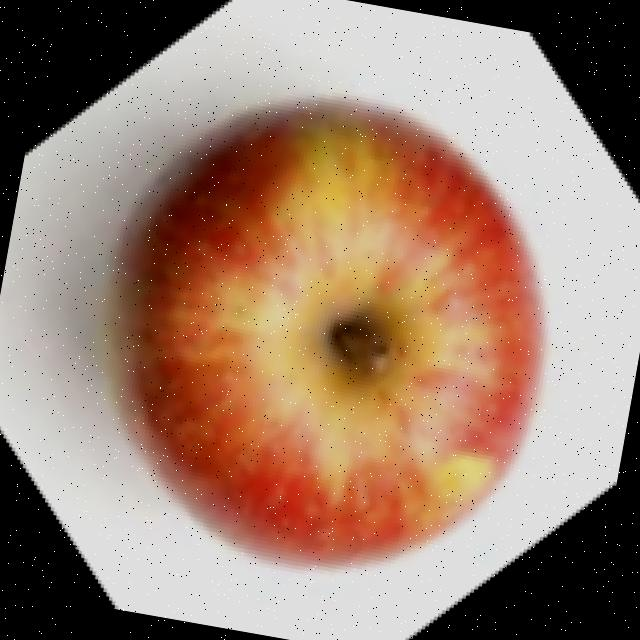Ripe: (61, 64, 590, 619)
